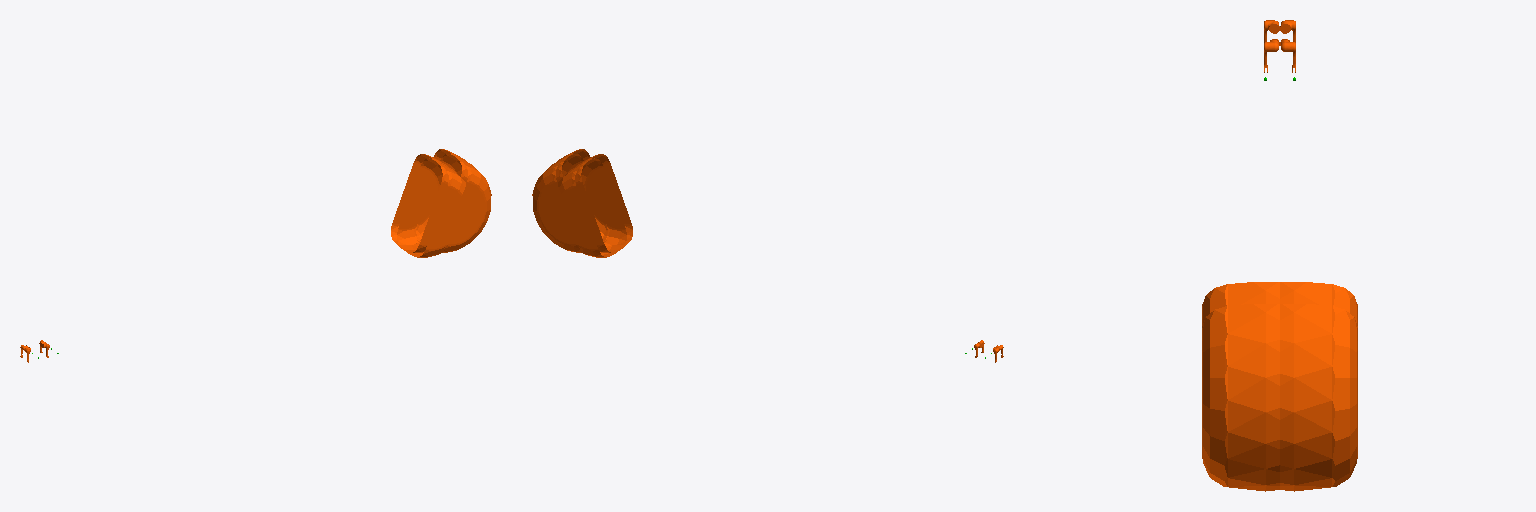
--- Facts derived from the render (not from the file) ---
3 views of the same robot in one strip: view 1: azimuth 30°, elevation 25°; view 2: azimuth 150°, elevation 25°; view 3: azimuth 270°, elevation 25° (orthographic).
Robot: aliengo_description — 19 links, 18 joints (8 revolute, 4 continuous, 6 fixed); root link base; default pose: all joints at 0 but 4 set to mid-range because 0 is outside their limits (FR_calf_joint = -1.71, FL_calf_joint = -1.71, RR_calf_joint = -1.71, RL_calf_joint = -1.71).
Links seen in each view (by area): view 1: RR_calf, FR_calf, RL_calf; view 2: RL_calf, FL_calf, RR_calf; view 3: FR_calf, FL_calf, RR_calf, RL_calf.
Link boxes in pixels (left/top/right/bottom): RR_calf: left=397, top=158, right=465, bottom=257; FR_calf: left=416, top=154, right=491, bottom=252; RL_calf: left=391, top=154, right=448, bottom=252; RL_calf: left=558, top=158, right=626, bottom=257; FL_calf: left=532, top=154, right=607, bottom=252; RR_calf: left=575, top=154, right=632, bottom=252; FR_calf: left=1202, top=304, right=1279, bottom=491; FL_calf: left=1280, top=304, right=1357, bottom=491; RR_calf: left=1202, top=282, right=1279, bottom=325; RL_calf: left=1280, top=282, right=1357, bottom=325.
Size in the robot's own frame: 11.31 by 1.45 by 2.35 metres.
Meshes: 5 distinct files referenced, 12 mesh visuals loaded (4 binary STL); not drawn: 1 (reference not matched to a file when rendering).

URDF robot description (aliengo_description):
<?xml version="1.0" ?>
<!-- =================================================================================== -->
<!-- |    This document was autogenerated by xacro from robot.xacro                    | -->
<!-- |    EDITING THIS FILE BY HAND IS NOT RECOMMENDED                                 | -->
<!-- =================================================================================== -->
<robot name="aliengo_description" xmlns:xacro="http://www.ros.org/wiki/xacro">
  <material name="black">
    <color rgba="0.0 0.0 0.0 1.0"/>
  </material>
  <material name="blue">
    <color rgba="0.0 0.0 0.8 1.0"/>
  </material>
  <material name="green">
    <color rgba="0.0 0.8 0.0 1.0"/>
  </material>
  <material name="grey">
    <color rgba="0.2 0.2 0.2 1.0"/>
  </material>
  <material name="silver">
    <color rgba="0.913725490196 0.913725490196 0.847058823529 1.0"/>
  </material>
  <material name="orange">
    <color rgba="1.0 0.423529411765 0.0392156862745 1.0"/>
  </material>
  <material name="brown">
    <color rgba="0.870588235294 0.811764705882 0.764705882353 1.0"/>
  </material>
  <material name="red">
    <color rgba="0.8 0.0 0.0 1.0"/>
  </material>
  <material name="white">
    <color rgba="1.0 1.0 1.0 1.0"/>
  </material>
  <!-- <xacro:include filename="$(find aliengo_gazebo)/launch/gazebo.xacro"/> -->
  <!-- Debug mode will hung up the robot, use "true" or "false" to switch it. -->
  <!-- <xacro:if value="$(arg DEBUG)">
        <link name="world"/>
        <joint name="base_static_joint" type="fixed">
            <origin rpy="0 0 0" xyz="0 0 0"/>
            <parent link="world"/>
            <child link="base"/>
        </joint>
    </xacro:if>  -->
  <link name="base">
    <visual>
      <origin rpy="0 0 0" xyz="0 0 0"/>
      <geometry>
        <box size="0.001 0.001 0.001"/>
      </geometry>
    </visual>
  </link>
  <joint name="floating_base" type="fixed">
    <origin rpy="0 0 0" xyz="0 0 0"/>
    <parent link="base"/>
    <child link="trunk"/>
  </joint>
  <link name="trunk">
    <visual>
      <origin rpy="0 0 0" xyz="0 0 0"/>
      <geometry>
        <mesh filename="../meshes/trunk.stl"/>
      </geometry>
      <material name="orange"/>
    </visual>
    <collision>
      <origin rpy="0 0 0" xyz="0 0 0"/>
      <geometry>
        <box size="0.647 0.15 0.112"/>
      </geometry>
    </collision>
    <!-- <collision>
            <origin rpy="0 0 0" xyz="0 0 0"/>
            <geometry>
                <mesh filename="../meshes/trunk.stl"/>
            </geometry>
        </collision> -->
    <inertial>
      <origin rpy="0 0 0" xyz="0.008465 0.004045 -0.000763"/>
      <mass value="9.041"/>
      <inertia ixx="0.033260231" ixy="-0.000451628" ixz="0.000487603" iyy="0.16117211" iyz="4.8356e-05" izz="0.17460442"/>
    </inertial>
  </link>
  <joint name="imu_joint" type="fixed">
    <parent link="trunk"/>
    <child link="imu_link"/>
    <origin rpy="0 0 0" xyz="0 0 0"/>
  </joint>
  <link name="imu_link">
    <inertial>
      <mass value="0.001"/>
      <origin rpy="0 0 0" xyz="0 0 0"/>
      <inertia ixx="0.0001" ixy="0" ixz="0" iyy="0.000001" iyz="0" izz="0.0001"/>
    </inertial>
    <visual>
      <origin rpy="0 0 0" xyz="0 0 0"/>
      <geometry>
        <box size="0.001 0.001 0.001"/>
      </geometry>
      <material name="red"/>
    </visual>
    <collision>
      <origin rpy="0 0 0" xyz="0 0 0"/>
      <geometry>
        <box size=".001 .001 .001"/>
      </geometry>
    </collision>
  </link>
  <joint name="FR_hip_joint" type="revolute">
    <origin rpy="0 0 0" xyz="0.2399 -0.051 0"/>
    <parent link="trunk"/>
    <child link="FR_hip"/>
    <axis xyz="1 0 0"/>
    <dynamics damping="0" friction="0"/>
    <limit effort="44" lower="-1.2217304764" upper="1.2217304764" velocity="20"/>
  </joint>
  <link name="FR_hip">
    <visual>
      <origin rpy="3.14159265359 0 0" xyz="0 0 0"/>
      <geometry>
        <mesh filename="../meshes/hip.stl"/>
      </geometry>
      <material name="orange"/>
    </visual>
    <collision>
      <origin rpy="1.57079632679 0 0" xyz="0 -0.083 0"/>
      <geometry>
        <cylinder length="0.0418" radius="0.046"/>
      </geometry>
    </collision>
    <inertial>
      <origin rpy="0 0 0" xyz="-0.022191 -0.015144 -1.5e-05"/>
      <mass value="1.993"/>
      <inertia ixx="0.002903894" ixy="7.185e-05" ixz="-1.262e-06" iyy="0.004907517" iyz="1.75e-06" izz="0.005586944"/>
    </inertial>
  </link>
  <!-- <joint name="${name}_hip_fixed" type="fixed">
            <origin rpy="0 0 0" xyz="0 ${(thigh_shoulder_length/2.0+hip_offset)*mirror} 0"/>
            <parent link="${name}_hip"/>
            <child link="${name}_thigh_shoulder"/>
        </joint> -->
  <!-- this link is only for collision -->
  <!-- <link name="${name}_thigh_shoulder">
            <collision>
                <origin rpy="${PI/2.0} 0 0" xyz="0 0 0"/>
                <geometry>
                    <cylinder length="${thigh_shoulder_length}" radius="${thigh_shoulder_radius}"/>
                </geometry>
            </collision>
        </link> -->
  <joint name="FR_thigh_joint" type="continuous">
    <origin rpy="0 0 0" xyz="0 -0.083 0"/>
    <parent link="FR_hip"/>
    <child link="FR_thigh"/>
    <axis xyz="0 1 0"/>
    <dynamics damping="0" friction="0"/>
    <limit effort="44" velocity="20"/>
  </joint>
  <link name="FR_thigh">
    <visual>
      <origin rpy="0 0 0" xyz="0 0 0"/>
      <geometry>
        <mesh filename="../meshes/thigh_mirror.stl"/>
      </geometry>
      <material name="orange"/>
    </visual>
    <collision>
      <origin rpy="0 1.57079632679 0" xyz="0 0 -0.125"/>
      <geometry>
        <box size="0.25 0.0374 0.043"/>
      </geometry>
    </collision>
    <inertial>
      <origin rpy="0 0 0" xyz="-0.005607 0.003877 -0.048199"/>
      <mass value="0.639"/>
      <inertia ixx="0.005666803" ixy="-3.597e-06" ixz="0.000491446" iyy="0.005847229" iyz="-1.0086e-05" izz="0.000369811"/>
    </inertial>
  </link>
  <joint name="FR_calf_joint" type="revolute">
    <origin rpy="0 0 0" xyz="0 0 -0.25"/>
    <parent link="FR_thigh"/>
    <child link="FR_calf"/>
    <axis xyz="0 1 0"/>
    <dynamics damping="0" friction="0"/>
    <limit effort="55" lower="-2.77507351067" upper="-0.645771823238" velocity="16"/>
  </joint>
  <link name="FR_calf">
    <visual>
      <origin rpy="0 0 0" xyz="0 0 0"/>
      <geometry>
        <mesh filename="../meshes/calf.stl"/>
      </geometry>
      <material name="orange"/>
    </visual>
    <collision>
      <origin rpy="0 1.57079632679 0" xyz="0 0 -0.125"/>
      <geometry>
        <box size="0.25 0.0208 0.016"/>
      </geometry>
    </collision>
    <inertial>
      <origin rpy="0 0 0" xyz="0.002781 6.3e-05 -0.142518"/>
      <mass value="0.207"/>
      <inertia ixx="0.006341369" ixy="-3e-09" ixz="-8.7951e-05" iyy="0.006355157" iyz="-1.336e-06" izz="3.9188e-05"/>
    </inertial>
  </link>
  <joint name="FR_foot_fixed" type="fixed">
    <origin rpy="0 0 0" xyz="0 0 -0.25"/>
    <parent link="FR_calf"/>
    <child link="FR_foot"/>
  </joint>
  <link name="FR_foot">
    <visual>
      <origin rpy="0 0 0" xyz="0 0 0"/>
      <geometry>
        <sphere radius="0.0165"/>
      </geometry>
      <material name="green"/>
    </visual>
    <collision>
      <origin rpy="0 0 0" xyz="0 0 0"/>
      <geometry>
        <sphere radius="0.0265"/>
      </geometry>
    </collision>
    <inertial>
      <mass value="0.06"/>
      <inertia ixx="1.6854e-05" ixy="0.0" ixz="0.0" iyy="1.6854e-05" iyz="0.0" izz="1.6854e-05"/>
    </inertial>
  </link>
  <transmission name="FR_hip_tran">
    <type>transmission_interface/SimpleTransmission</type>
    <joint name="FR_hip_joint">
      <hardwareInterface>hardware_interface/EffortJointInterface</hardwareInterface>
    </joint>
    <actuator name="FR_hip_motor">
      <hardwareInterface>hardware_interface/EffortJointInterface</hardwareInterface>
      <mechanicalReduction>1</mechanicalReduction>
    </actuator>
  </transmission>
  <transmission name="FR_thigh_tran">
    <type>transmission_interface/SimpleTransmission</type>
    <joint name="FR_thigh_joint">
      <hardwareInterface>hardware_interface/EffortJointInterface</hardwareInterface>
    </joint>
    <actuator name="FR_thigh_motor">
      <hardwareInterface>hardware_interface/EffortJointInterface</hardwareInterface>
      <mechanicalReduction>1</mechanicalReduction>
    </actuator>
  </transmission>
  <transmission name="FR_calf_tran">
    <type>transmission_interface/SimpleTransmission</type>
    <joint name="FR_calf_joint">
      <hardwareInterface>hardware_interface/EffortJointInterface</hardwareInterface>
    </joint>
    <actuator name="FR_calf_motor">
      <hardwareInterface>hardware_interface/EffortJointInterface</hardwareInterface>
      <mechanicalReduction>1</mechanicalReduction>
    </actuator>
  </transmission>
  <joint name="FL_hip_joint" type="revolute">
    <origin rpy="0 0 0" xyz="0.2399 0.051 0"/>
    <parent link="trunk"/>
    <child link="FL_hip"/>
    <axis xyz="1 0 0"/>
    <dynamics damping="0" friction="0"/>
    <limit effort="44" lower="-1.2217304764" upper="1.2217304764" velocity="20"/>
  </joint>
  <link name="FL_hip">
    <visual>
      <origin rpy="0 0 0" xyz="0 0 0"/>
      <geometry>
        <mesh filename="../meshes/hip.stl"/>
      </geometry>
      <material name="orange"/>
    </visual>
    <collision>
      <origin rpy="1.57079632679 0 0" xyz="0 0.083 0"/>
      <geometry>
        <cylinder length="0.0418" radius="0.046"/>
      </geometry>
    </collision>
    <inertial>
      <origin rpy="0 0 0" xyz="-0.022191 0.015144 -1.5e-05"/>
      <mass value="1.993"/>
      <inertia ixx="0.002903894" ixy="-7.185e-05" ixz="-1.262e-06" iyy="0.004907517" iyz="-1.75e-06" izz="0.005586944"/>
    </inertial>
  </link>
  <!-- <joint name="${name}_hip_fixed" type="fixed">
            <origin rpy="0 0 0" xyz="0 ${(thigh_shoulder_length/2.0+hip_offset)*mirror} 0"/>
            <parent link="${name}_hip"/>
            <child link="${name}_thigh_shoulder"/>
        </joint> -->
  <!-- this link is only for collision -->
  <!-- <link name="${name}_thigh_shoulder">
            <collision>
                <origin rpy="${PI/2.0} 0 0" xyz="0 0 0"/>
                <geometry>
                    <cylinder length="${thigh_shoulder_length}" radius="${thigh_shoulder_radius}"/>
                </geometry>
            </collision>
        </link> -->
  <joint name="FL_thigh_joint" type="continuous">
    <origin rpy="0 0 0" xyz="0 0.083 0"/>
    <parent link="FL_hip"/>
    <child link="FL_thigh"/>
    <axis xyz="0 1 0"/>
    <dynamics damping="0" friction="0"/>
    <limit effort="44" velocity="20"/>
  </joint>
  <link name="FL_thigh">
    <visual>
      <origin rpy="0 0 0" xyz="0 0 0"/>
      <geometry>
        <mesh filename="../meshes/thigh.stl"/>
      </geometry>
      <material name="orange"/>
    </visual>
    <collision>
      <origin rpy="0 1.57079632679 0" xyz="0 0 -0.125"/>
      <geometry>
        <box size="0.25 0.0374 0.043"/>
      </geometry>
    </collision>
    <inertial>
      <origin rpy="0 0 0" xyz="-0.005607 -0.003877 -0.048199"/>
      <mass value="0.639"/>
      <inertia ixx="0.005666803" ixy="3.597e-06" ixz="0.000491446" iyy="0.005847229" iyz="1.0086e-05" izz="0.000369811"/>
    </inertial>
  </link>
  <joint name="FL_calf_joint" type="revolute">
    <origin rpy="0 0 0" xyz="0 0 -0.25"/>
    <parent link="FL_thigh"/>
    <child link="FL_calf"/>
    <axis xyz="0 1 0"/>
    <dynamics damping="0" friction="0"/>
    <limit effort="55" lower="-2.77507351067" upper="-0.645771823238" velocity="16"/>
  </joint>
  <link name="FL_calf">
    <visual>
      <origin rpy="0 0 0" xyz="0 0 0"/>
      <geometry>
        <mesh filename="../meshes/calf.stl"/>
      </geometry>
      <material name="orange"/>
    </visual>
    <collision>
      <origin rpy="0 1.57079632679 0" xyz="0 0 -0.125"/>
      <geometry>
        <box size="0.25 0.0208 0.016"/>
      </geometry>
    </collision>
    <inertial>
      <origin rpy="0 0 0" xyz="0.002781 6.3e-05 -0.142518"/>
      <mass value="0.207"/>
      <inertia ixx="0.006341369" ixy="-3e-09" ixz="-8.7951e-05" iyy="0.006355157" iyz="-1.336e-06" izz="3.9188e-05"/>
    </inertial>
  </link>
  <joint name="FL_foot_fixed" type="fixed">
    <origin rpy="0 0 0" xyz="0 0 -0.25"/>
    <parent link="FL_calf"/>
    <child link="FL_foot"/>
  </joint>
  <link name="FL_foot">
    <visual>
      <origin rpy="0 0 0" xyz="0 0 0"/>
      <geometry>
        <sphere radius="0.0165"/>
      </geometry>
      <material name="green"/>
    </visual>
    <collision>
      <origin rpy="0 0 0" xyz="0 0 0"/>
      <geometry>
        <sphere radius="0.0265"/>
      </geometry>
    </collision>
    <inertial>
      <mass value="0.06"/>
      <inertia ixx="1.6854e-05" ixy="0.0" ixz="0.0" iyy="1.6854e-05" iyz="0.0" izz="1.6854e-05"/>
    </inertial>
  </link>
  <transmission name="FL_hip_tran">
    <type>transmission_interface/SimpleTransmission</type>
    <joint name="FL_hip_joint">
      <hardwareInterface>hardware_interface/EffortJointInterface</hardwareInterface>
    </joint>
    <actuator name="FL_hip_motor">
      <hardwareInterface>hardware_interface/EffortJointInterface</hardwareInterface>
      <mechanicalReduction>1</mechanicalReduction>
    </actuator>
  </transmission>
  <transmission name="FL_thigh_tran">
    <type>transmission_interface/SimpleTransmission</type>
    <joint name="FL_thigh_joint">
      <hardwareInterface>hardware_interface/EffortJointInterface</hardwareInterface>
    </joint>
    <actuator name="FL_thigh_motor">
      <hardwareInterface>hardware_interface/EffortJointInterface</hardwareInterface>
      <mechanicalReduction>1</mechanicalReduction>
    </actuator>
  </transmission>
  <transmission name="FL_calf_tran">
    <type>transmission_interface/SimpleTransmission</type>
    <joint name="FL_calf_joint">
      <hardwareInterface>hardware_interface/EffortJointInterface</hardwareInterface>
    </joint>
    <actuator name="FL_calf_motor">
      <hardwareInterface>hardware_interface/EffortJointInterface</hardwareInterface>
      <mechanicalReduction>1</mechanicalReduction>
    </actuator>
  </transmission>
  <joint name="RR_hip_joint" type="revolute">
    <origin rpy="0 0 0" xyz="-0.2399 -0.051 0"/>
    <parent link="trunk"/>
    <child link="RR_hip"/>
    <axis xyz="1 0 0"/>
    <dynamics damping="0" friction="0"/>
    <limit effort="44" lower="-1.2217304764" upper="1.2217304764" velocity="20"/>
  </joint>
  <link name="RR_hip">
    <visual>
      <origin rpy="3.14159265359 3.14159265359 0" xyz="0 0 0"/>
      <geometry>
        <mesh filename="../meshes/hip.stl"/>
      </geometry>
      <material name="orange"/>
    </visual>
    <collision>
      <origin rpy="1.57079632679 0 0" xyz="0 -0.083 0"/>
      <geometry>
        <cylinder length="0.0418" radius="0.046"/>
      </geometry>
    </collision>
    <inertial>
      <origin rpy="0 0 0" xyz="0.022191 -0.015144 -1.5e-05"/>
      <mass value="1.993"/>
      <inertia ixx="0.002903894" ixy="-7.185e-05" ixz="1.262e-06" iyy="0.004907517" iyz="1.75e-06" izz="0.005586944"/>
    </inertial>
  </link>
  <!-- <joint name="${name}_hip_fixed" type="fixed">
            <origin rpy="0 0 0" xyz="0 ${(thigh_shoulder_length/2.0+hip_offset)*mirror} 0"/>
            <parent link="${name}_hip"/>
            <child link="${name}_thigh_shoulder"/>
        </joint> -->
  <!-- this link is only for collision -->
  <!-- <link name="${name}_thigh_shoulder">
            <collision>
                <origin rpy="${PI/2.0} 0 0" xyz="0 0 0"/>
                <geometry>
                    <cylinder length="${thigh_shoulder_length}" radius="${thigh_shoulder_radius}"/>
                </geometry>
            </collision>
        </link> -->
  <joint name="RR_thigh_joint" type="continuous">
    <origin rpy="0 0 0" xyz="0 -0.083 0"/>
    <parent link="RR_hip"/>
    <child link="RR_thigh"/>
    <axis xyz="0 1 0"/>
    <dynamics damping="0" friction="0"/>
    <limit effort="44" velocity="20"/>
  </joint>
  <link name="RR_thigh">
    <visual>
      <origin rpy="0 0 0" xyz="0 0 0"/>
      <geometry>
        <mesh filename="../meshes/thigh_mirror.stl"/>
      </geometry>
      <material name="orange"/>
    </visual>
    <collision>
      <origin rpy="0 1.57079632679 0" xyz="0 0 -0.125"/>
      <geometry>
        <box size="0.25 0.0374 0.043"/>
      </geometry>
    </collision>
    <inertial>
      <origin rpy="0 0 0" xyz="-0.005607 0.003877 -0.048199"/>
      <mass value="0.639"/>
      <inertia ixx="0.005666803" ixy="-3.597e-06" ixz="0.000491446" iyy="0.005847229" iyz="-1.0086e-05" izz="0.000369811"/>
    </inertial>
  </link>
  <joint name="RR_calf_joint" type="revolute">
    <origin rpy="0 0 0" xyz="0 0 -0.25"/>
    <parent link="RR_thigh"/>
    <child link="RR_calf"/>
    <axis xyz="0 1 0"/>
    <dynamics damping="0" friction="0"/>
    <limit effort="55" lower="-2.77507351067" upper="-0.645771823238" velocity="16"/>
  </joint>
  <link name="RR_calf">
    <visual>
      <origin rpy="0 0 0" xyz="0 0 0"/>
      <geometry>
        <mesh filename="../meshes/calf.stl"/>
      </geometry>
      <material name="orange"/>
    </visual>
    <collision>
      <origin rpy="0 1.57079632679 0" xyz="0 0 -0.125"/>
      <geometry>
        <box size="0.25 0.0208 0.016"/>
      </geometry>
    </collision>
    <inertial>
      <origin rpy="0 0 0" xyz="0.002781 6.3e-05 -0.142518"/>
      <mass value="0.207"/>
      <inertia ixx="0.006341369" ixy="-3e-09" ixz="-8.7951e-05" iyy="0.006355157" iyz="-1.336e-06" izz="3.9188e-05"/>
    </inertial>
  </link>
  <joint name="RR_foot_fixed" type="fixed">
    <origin rpy="0 0 0" xyz="0 0 -0.25"/>
    <parent link="RR_calf"/>
    <child link="RR_foot"/>
  </joint>
  <link name="RR_foot">
    <visual>
      <origin rpy="0 0 0" xyz="0 0 0"/>
      <geometry>
        <sphere radius="0.0165"/>
      </geometry>
      <material name="green"/>
    </visual>
    <collision>
      <origin rpy="0 0 0" xyz="0 0 0"/>
      <geometry>
        <sphere radius="0.0265"/>
      </geometry>
    </collision>
    <inertial>
      <mass value="0.06"/>
      <inertia ixx="1.6854e-05" ixy="0.0" ixz="0.0" iyy="1.6854e-05" iyz="0.0" izz="1.6854e-05"/>
    </inertial>
  </link>
  <transmission name="RR_hip_tran">
    <type>transmission_interface/SimpleTransmission</type>
    <joint name="RR_hip_joint">
      <hardwareInterface>hardware_interface/EffortJointInterface</hardwareInterface>
    </joint>
    <actuator name="RR_hip_motor">
      <hardwareInterface>hardware_interface/EffortJointInterface</hardwareInterface>
      <mechanicalReduction>1</mechanicalReduction>
    </actuator>
  </transmission>
  <transmission name="RR_thigh_tran">
    <type>transmission_interface/SimpleTransmission</type>
    <joint name="RR_thigh_joint">
      <hardwareInterface>hardware_interface/EffortJointInterface</hardwareInterface>
    </joint>
    <actuator name="RR_thigh_motor">
      <hardwareInterface>hardware_interface/EffortJointInterface</hardwareInterface>
      <mechanicalReduction>1</mechanicalReduction>
    </actuator>
  </transmission>
  <transmission name="RR_calf_tran">
    <type>transmission_interface/SimpleTransmission</type>
    <joint name="RR_calf_joint">
      <hardwareInterface>hardware_interface/EffortJointInterface</hardwareInterface>
    </joint>
    <actuator name="RR_calf_motor">
      <hardwareInterface>hardware_interface/EffortJointInterface</hardwareInterface>
      <mechanicalReduction>1</mechanicalReduction>
    </actuator>
  </transmission>
  <joint name="RL_hip_joint" type="revolute">
    <origin rpy="0 0 0" xyz="-0.2399 0.051 0"/>
    <parent link="trunk"/>
    <child link="RL_hip"/>
    <axis xyz="1 0 0"/>
    <dynamics damping="0" friction="0"/>
    <limit effort="44" lower="-1.2217304764" upper="1.2217304764" velocity="20"/>
  </joint>
  <link name="RL_hip">
    <visual>
      <origin rpy="0 3.14159265359 0" xyz="0 0 0"/>
      <geometry>
        <mesh filename="../meshes/hip.stl"/>
      </geometry>
      <material name="orange"/>
    </visual>
    <collision>
      <origin rpy="1.57079632679 0 0" xyz="0 0.083 0"/>
      <geometry>
        <cylinder length="0.0418" radius="0.046"/>
      </geometry>
    </collision>
    <inertial>
      <origin rpy="0 0 0" xyz="0.022191 0.015144 -1.5e-05"/>
      <mass value="1.993"/>
      <inertia ixx="0.002903894" ixy="7.185e-05" ixz="1.262e-06" iyy="0.004907517" iyz="-1.75e-06" izz="0.005586944"/>
    </inertial>
  </link>
  <!-- <joint name="${name}_hip_fixed" type="fixed">
            <origin rpy="0 0 0" xyz="0 ${(thigh_shoulder_length/2.0+hip_offset)*mirror} 0"/>
            <parent link="${name}_hip"/>
            <child link="${name}_thigh_shoulder"/>
        </joint> -->
  <!-- this link is only for collision -->
  <!-- <link name="${name}_thigh_shoulder">
            <collision>
                <origin rpy="${PI/2.0} 0 0" xyz="0 0 0"/>
                <geometry>
                    <cylinder length="${thigh_shoulder_length}" radius="${thigh_shoulder_radius}"/>
                </geometry>
            </collision>
        </link> -->
  <joint name="RL_thigh_joint" type="continuous">
    <origin rpy="0 0 0" xyz="0 0.083 0"/>
    <parent link="RL_hip"/>
    <child link="RL_thigh"/>
    <axis xyz="0 1 0"/>
    <dynamics damping="0" friction="0"/>
    <limit effort="44" velocity="20"/>
  </joint>
  <link name="RL_thigh">
    <visual>
      <origin rpy="0 0 0" xyz="0 0 0"/>
      <geometry>
        <mesh filename="../meshes/thigh.stl"/>
      </geometry>
      <material name="orange"/>
    </visual>
    <collision>
      <origin rpy="0 1.57079632679 0" xyz="0 0 -0.125"/>
      <geometry>
        <box size="0.25 0.0374 0.043"/>
      </geometry>
    </collision>
    <inertial>
      <origin rpy="0 0 0" xyz="-0.005607 -0.003877 -0.048199"/>
      <mass value="0.639"/>
      <inertia ixx="0.005666803" ixy="3.597e-06" ixz="0.000491446" iyy="0.005847229" iyz="1.0086e-05" izz="0.000369811"/>
    </inertial>
  </link>
  <joint name="RL_calf_joint" type="revolute">
    <origin rpy="0 0 0" xyz="0 0 -0.25"/>
    <parent link="RL_thigh"/>
    <child link="RL_calf"/>
    <axis xyz="0 1 0"/>
    <dynamics damping="0" friction="0"/>
    <limit effort="55" lower="-2.77507351067" upper="-0.645771823238" velocity="16"/>
  </joint>
  <link name="RL_calf">
    <visual>
      <origin rpy="0 0 0" xyz="0 0 0"/>
      <geometry>
        <mesh filename="../meshes/calf.stl"/>
      </geometry>
      <material name="orange"/>
    </visual>
    <collision>
      <origin rpy="0 1.57079632679 0" xyz="0 0 -0.125"/>
      <geometry>
        <box size="0.25 0.0208 0.016"/>
      </geometry>
    </collision>
    <inertial>
      <origin rpy="0 0 0" xyz="0.002781 6.3e-05 -0.142518"/>
      <mass value="0.207"/>
      <inertia ixx="0.006341369" ixy="-3e-09" ixz="-8.7951e-05" iyy="0.006355157" iyz="-1.336e-06" izz="3.9188e-05"/>
    </inertial>
  </link>
  <joint name="RL_foot_fixed" type="fixed">
    <origin rpy="0 0 0" xyz="0 0 -0.25"/>
    <parent link="RL_calf"/>
    <child link="RL_foot"/>
  </joint>
  <link name="RL_foot">
    <visual>
      <origin rpy="0 0 0" xyz="0 0 0"/>
      <geometry>
        <sphere radius="0.0165"/>
      </geometry>
      <material name="green"/>
    </visual>
    <collision>
      <origin rpy="0 0 0" xyz="0 0 0"/>
      <geometry>
        <sphere radius="0.0265"/>
      </geometry>
    </collision>
    <inertial>
      <mass value="0.06"/>
      <inertia ixx="1.6854e-05" ixy="0.0" ixz="0.0" iyy="1.6854e-05" iyz="0.0" izz="1.6854e-05"/>
    </inertial>
  </link>
  <transmission name="RL_hip_tran">
    <type>transmission_interface/SimpleTransmission</type>
    <joint name="RL_hip_joint">
      <hardwareInterface>hardware_interface/EffortJointInterface</hardwareInterface>
    </joint>
    <actuator name="RL_hip_motor">
      <hardwareInterface>hardware_interface/EffortJointInterface</hardwareInterface>
      <mechanicalReduction>1</mechanicalReduction>
    </actuator>
  </transmission>
  <transmission name="RL_thigh_tran">
    <type>transmission_interface/SimpleTransmission</type>
    <joint name="RL_thigh_joint">
      <hardwareInterface>hardware_interface/EffortJointInterface</hardwareInterface>
    </joint>
    <actuator name="RL_thigh_motor">
      <hardwareInterface>hardware_interface/EffortJointInterface</hardwareInterface>
      <mechanicalReduction>1</mechanicalReduction>
    </actuator>
  </transmission>
  <transmission name="RL_calf_tran">
    <type>transmission_interface/SimpleTransmission</type>
    <joint name="RL_calf_joint">
      <hardwareInterface>hardware_interface/EffortJointInterface</hardwareInterface>
    </joint>
    <actuator name="RL_calf_motor">
      <hardwareInterface>hardware_interface/EffortJointInterface</hardwareInterface>
      <mechanicalReduction>1</mechanicalReduction>
    </actuator>
  </transmission>
  <!-- <xacro:stairs stairs="15" xpos="0" ypos="2.0" zpos="0" /> -->
</robot>
